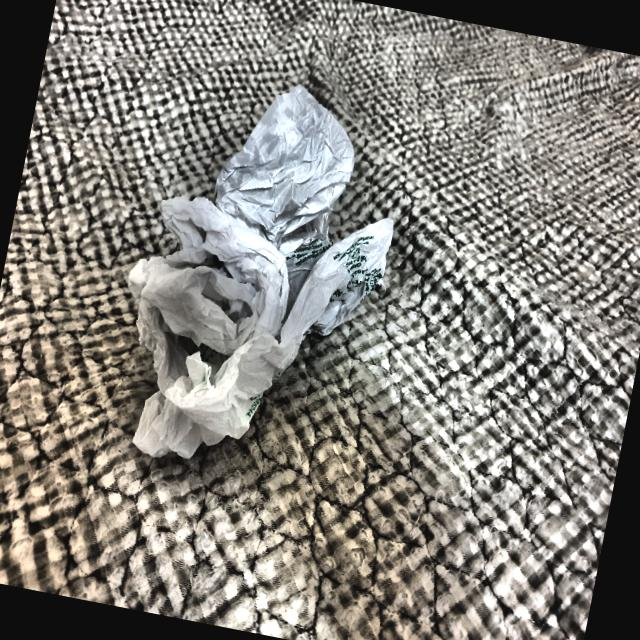plastic bag: (91, 54, 436, 508)
